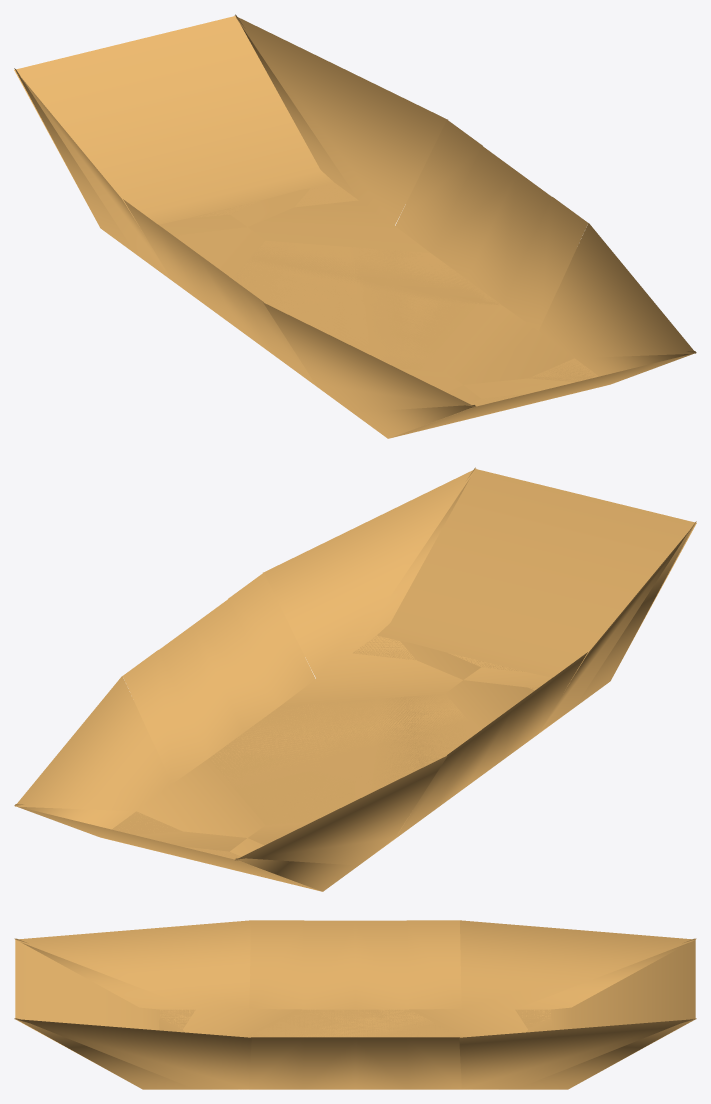
Rendered from hune.fbx.
3 views of the same model, one above another, from view 1: azimuth 30°, elevation 25°; view 2: azimuth 150°, elevation 25°; view 3: azimuth 270°, elevation 25° (orthographic). The views are drawn at different scales.
Parts seen in each view (by area): view 1: 平面; view 2: 平面; view 3: 平面.
Part boxes in pixels (x1,y1,x2,y2): 平面: [14, 14, 696, 438]; 平面: [14, 467, 696, 891]; 平面: [14, 920, 696, 1089].
Bounding box in the file's own units: 1060 × 300 × 2603.
